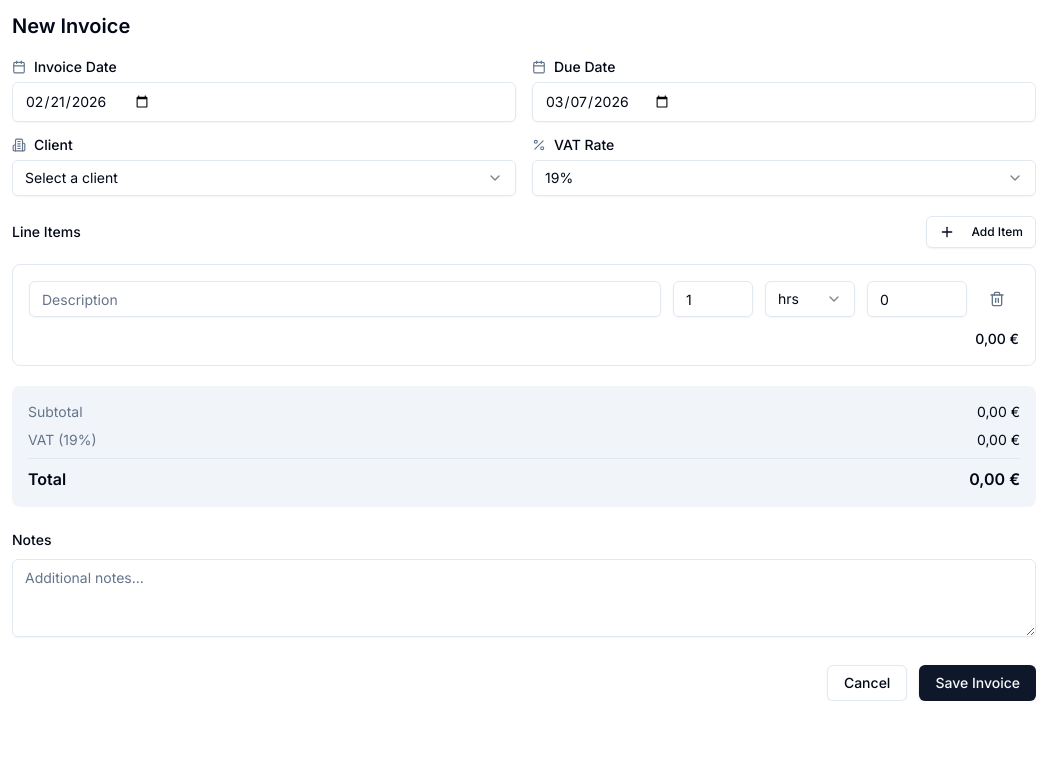
Test: InvoiceForm › validation › shows error when no line items
The image size is (1048, 780).
// Remove the default line item (may have multiple buttons from responsive views)
Click the button named "Remove": (997, 299) [979,281,1015,317]
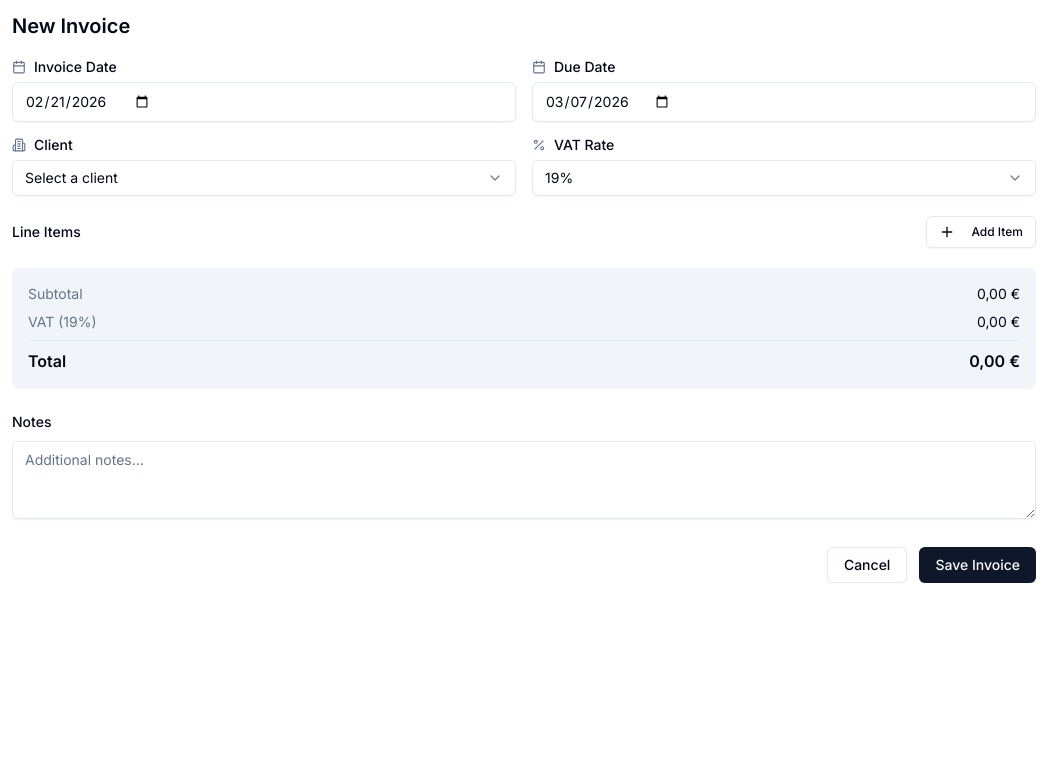
Click the button "Save Invoice": (978, 565) [919,547,1036,583]
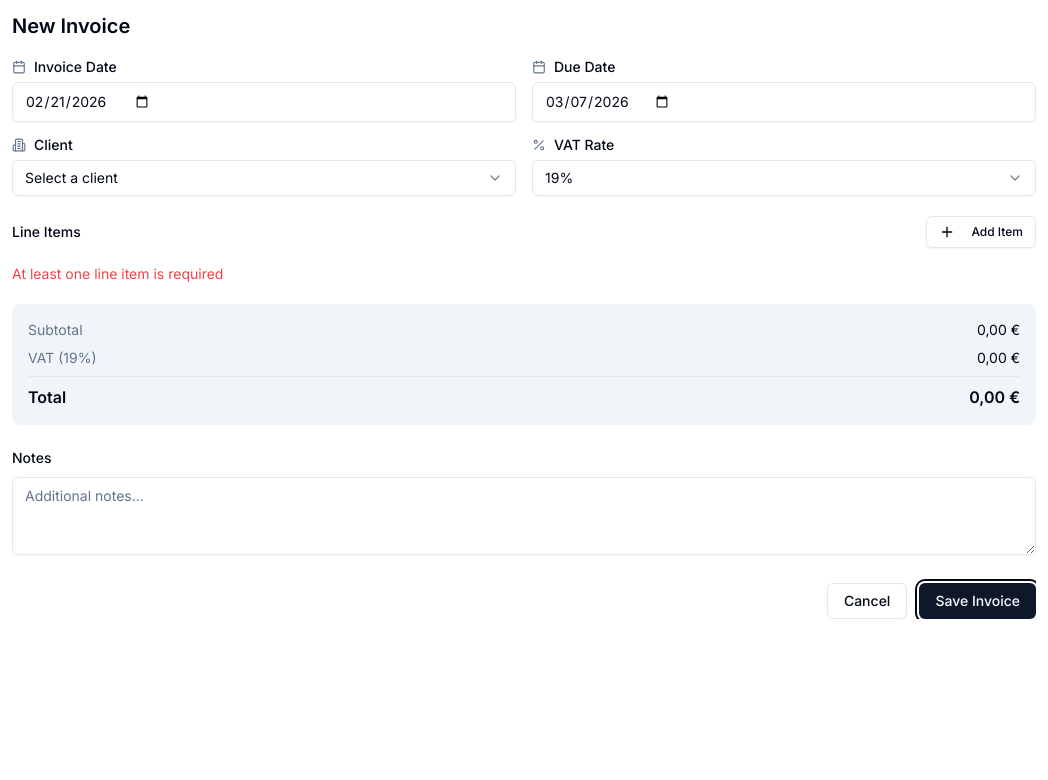
Result: the text "At least one line item is required" is shown at [12,265,223,282]
